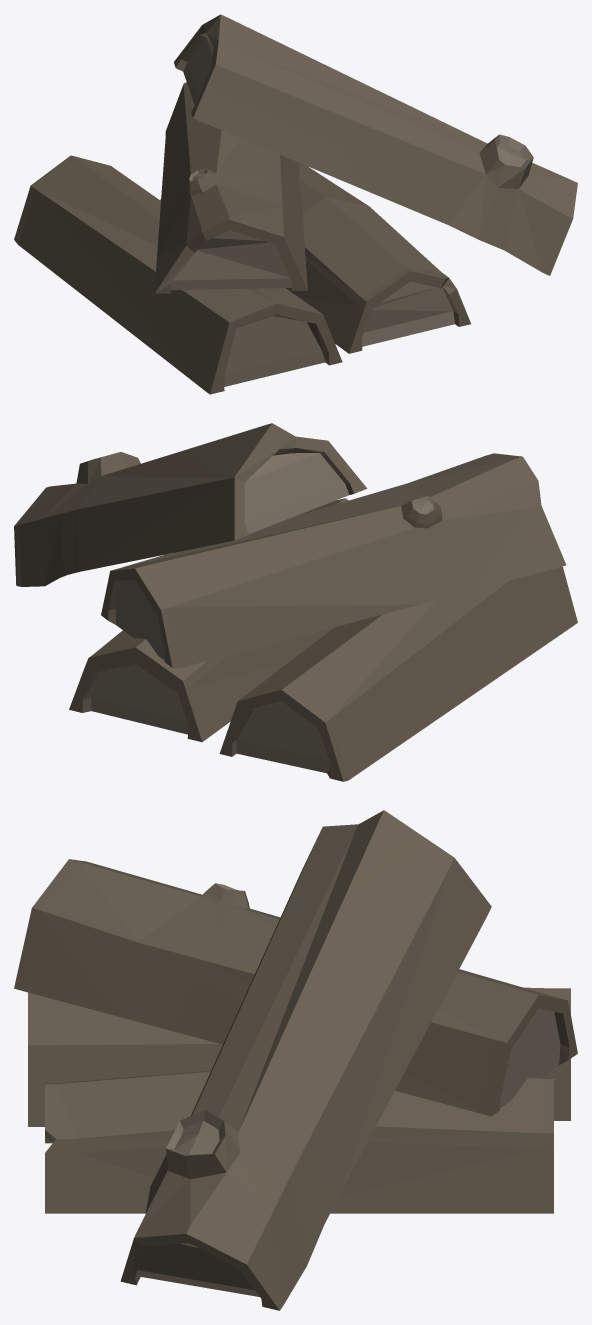
Rendered from firewood.glb.
The picture shows the model from 3 angles, top to bottom: view 1: azimuth 30°, elevation 25°; view 2: azimuth 150°, elevation 25°; view 3: azimuth 270°, elevation 25°; orthographic projection. The views are drawn at different scales.
Parts seen in each view (by area): view 1: Firewood; view 2: Firewood; view 3: Firewood.
Part boxes in pixels (x1=…): Firewood: x1=14, y1=14, x2=577, y2=394; Firewood: x1=14, y1=423, x2=577, y2=781; Firewood: x1=14, y1=810, x2=577, y2=1310.
Size of the model in its own units: 0.7852 by 0.4042 by 0.6353.
1 material, 1 textured.
